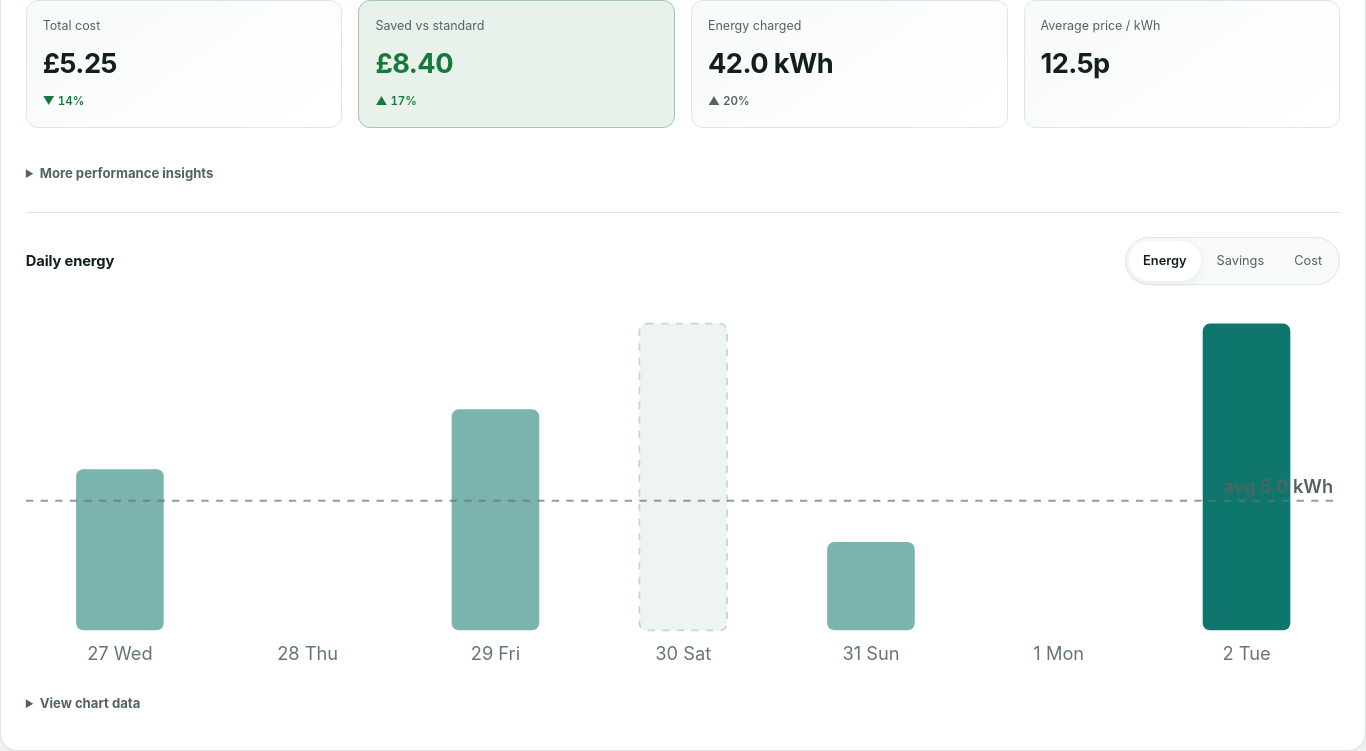
Test: StatisticsSection insights › keeps omitted upstream days visible without treating them as zero
This screenshot has width=1366, height=751.
(page scrolled)
Click the heading "View chart data" at [90, 703], box [40,695,140,711]
(page scrolled)
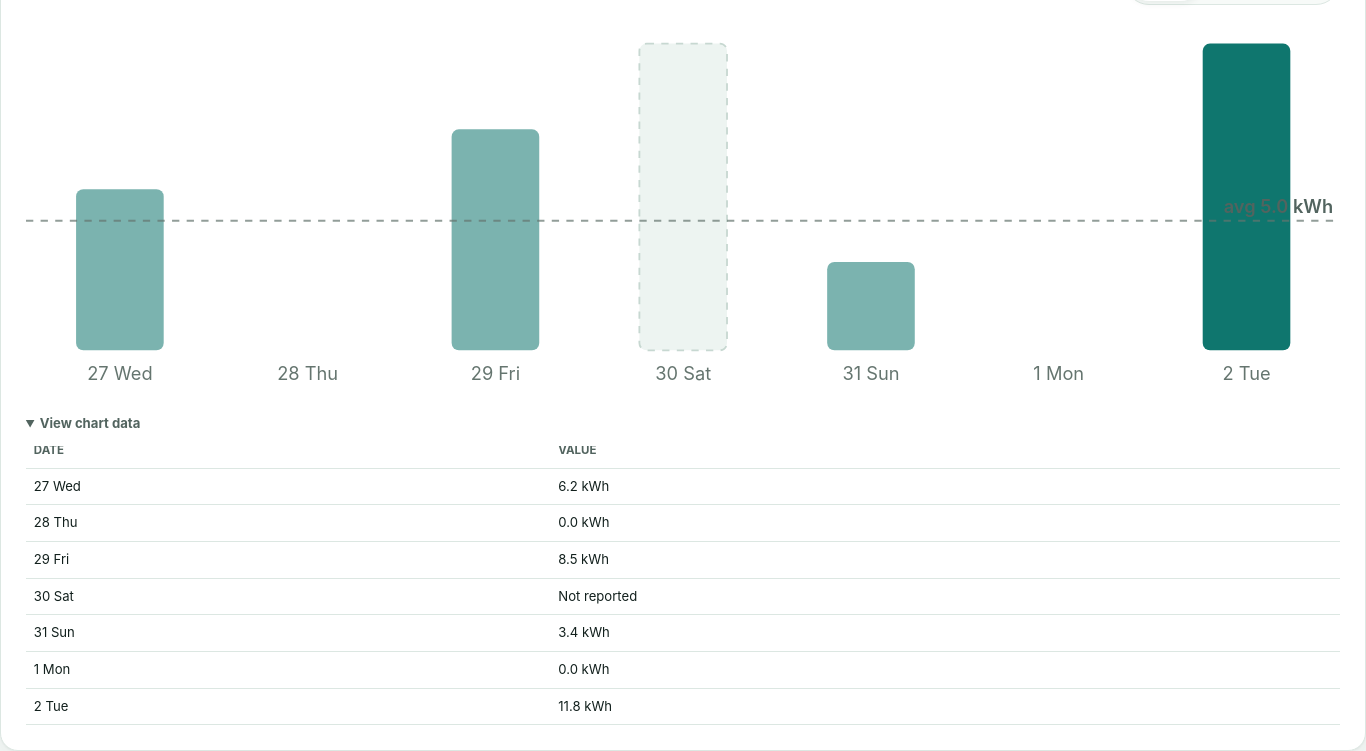
Check: the number of rows is 8
Check: the text "Not reported" is shown, box [550,578,1340,615]
